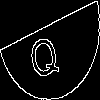Q: (25, 25, 61, 84)
